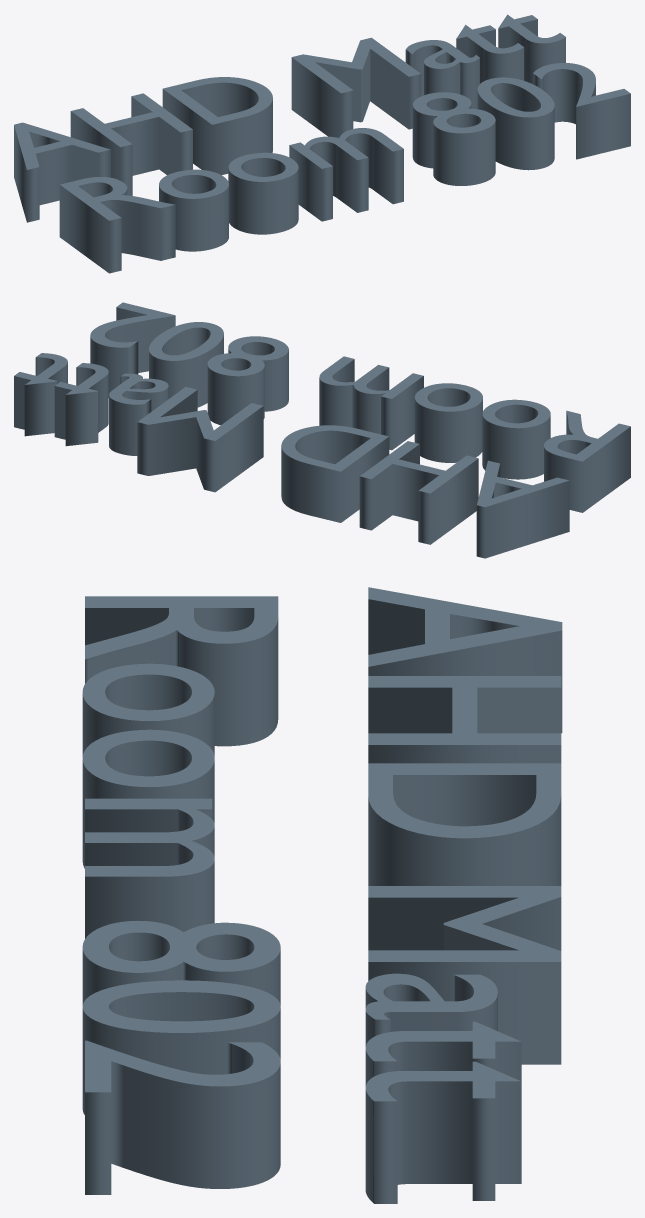
Rendered from ahd-matt-802.gltf.
The picture shows the model from 3 angles, top to bottom: view 1: azimuth 30°, elevation 25°; view 2: azimuth 150°, elevation 25°; view 3: azimuth 270°, elevation 25°; orthographic projection. The views are drawn at different scales.
Visible parts, largest first — view 1: Text; view 2: Text; view 3: Text.
Boxes of the visible parts, bbox=[...] form: Text: bbox=[14, 14, 630, 273]; Text: bbox=[14, 302, 630, 558]; Text: bbox=[82, 587, 562, 1203].
Size of the model in its own units: 4.3 by 0.4 by 1.69.
